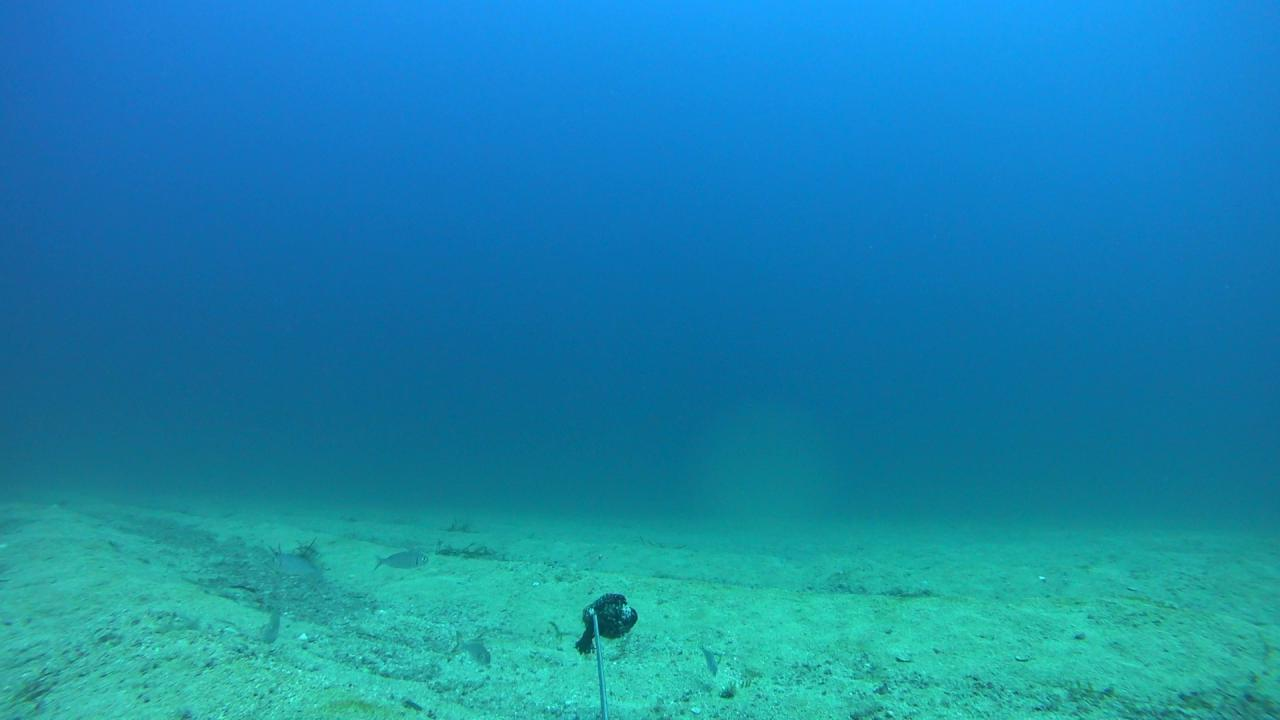pagellus: (372, 549, 428, 571)
